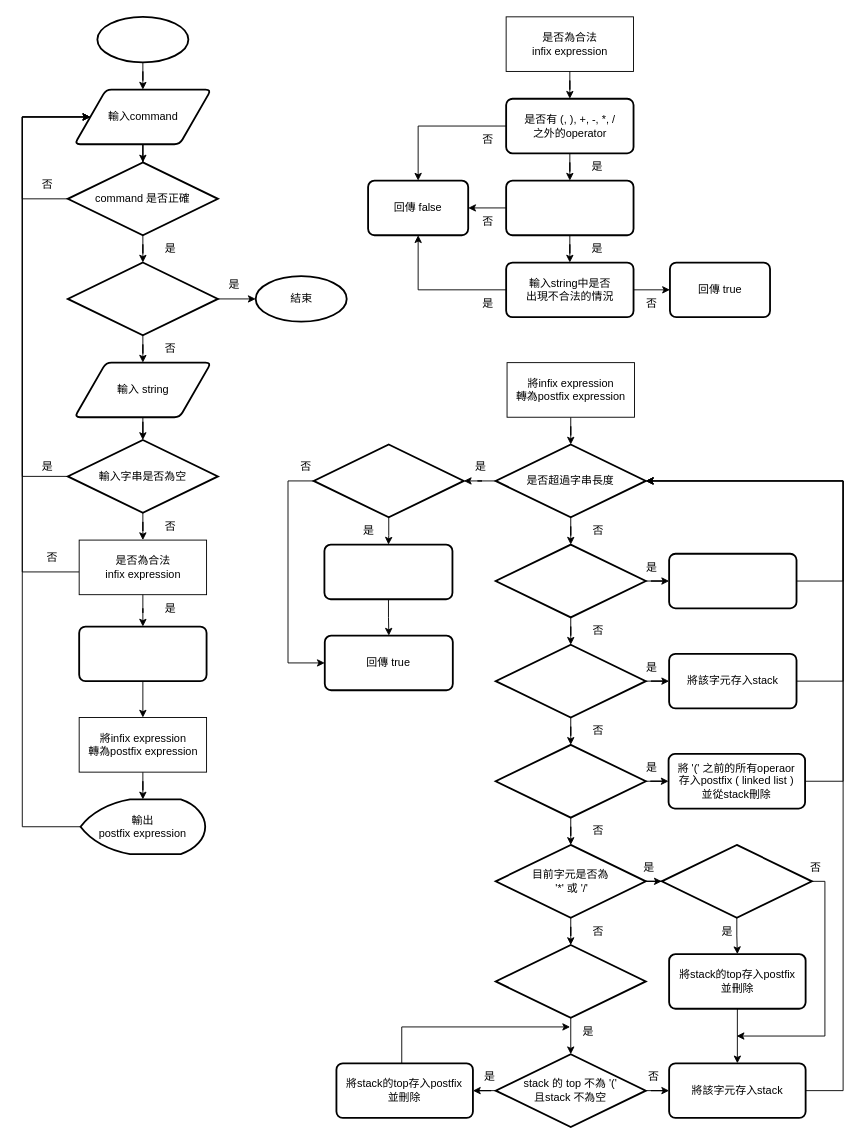
This 866x1143 diagram has some shape labels left out. Each missing label, with the box of its shape:
command 是否為0: (66, 261, 218, 336)
stack 的 top 是否為 ' * ' 或 ' / ': (660, 844, 812, 918)
stack中還有東西或 還有operand: (312, 443, 464, 518)
將stack中的東西/operand存入postfix( linked list )): (323, 543, 453, 600)
將該字元存入 operand (string): (668, 552, 797, 609)
目前字元是否為 '(': (494, 643, 646, 718)
目前字元是否為 ')': (494, 743, 646, 818)
目前字元是否為 '+' 或 '-': (494, 944, 646, 1018)
目前字元是否為數字: (494, 543, 646, 618)
移除string中的空白: (78, 625, 207, 682)
輸入string中的括弧 是否成對: (505, 179, 634, 236)
開始: (96, 15, 189, 63)
